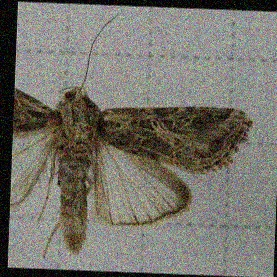Spodoptera litura: (11, 12, 254, 262)
